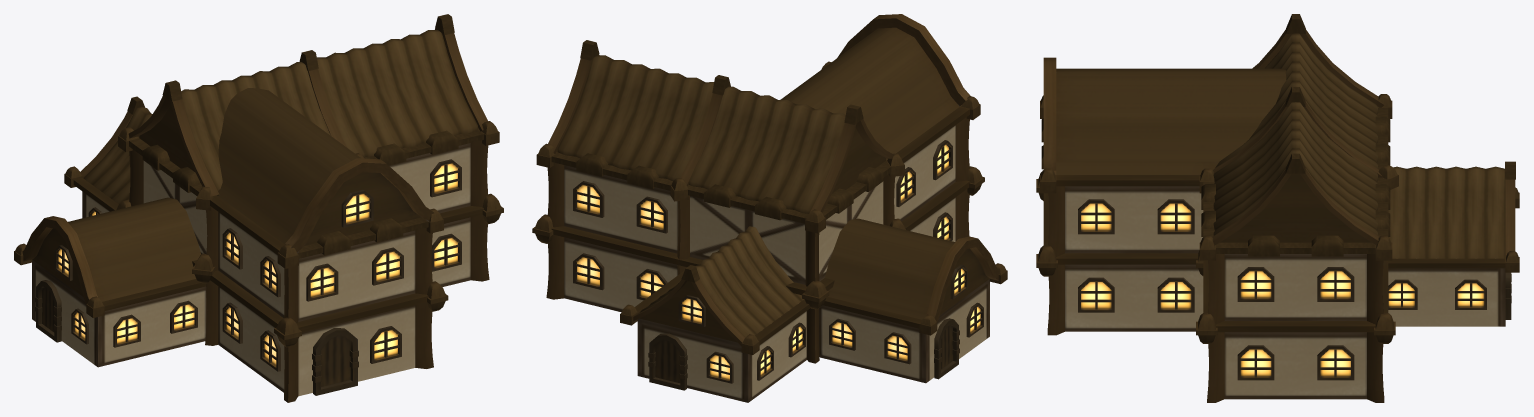
3 renders of one model, left to right at view 1: azimuth 30°, elevation 25°; view 2: azimuth 150°, elevation 25°; view 3: azimuth 270°, elevation 25°, orthographic. The views are drawn at different scales.
Visible parts, largest first — view 1: Loja_Grande_0; view 2: Loja_Grande_0; view 3: Loja_Grande_0.
Part boxes in pixels (box(x1,y1,x2,y2)): Loja_Grande_0: box(14, 14, 503, 402); Loja_Grande_0: box(532, 14, 1007, 402); Loja_Grande_0: box(1036, 14, 1519, 402).
Size of the model in its own units: 24.53 by 13.68 by 24.21.
Materials: 1 (1 with a texture image).
